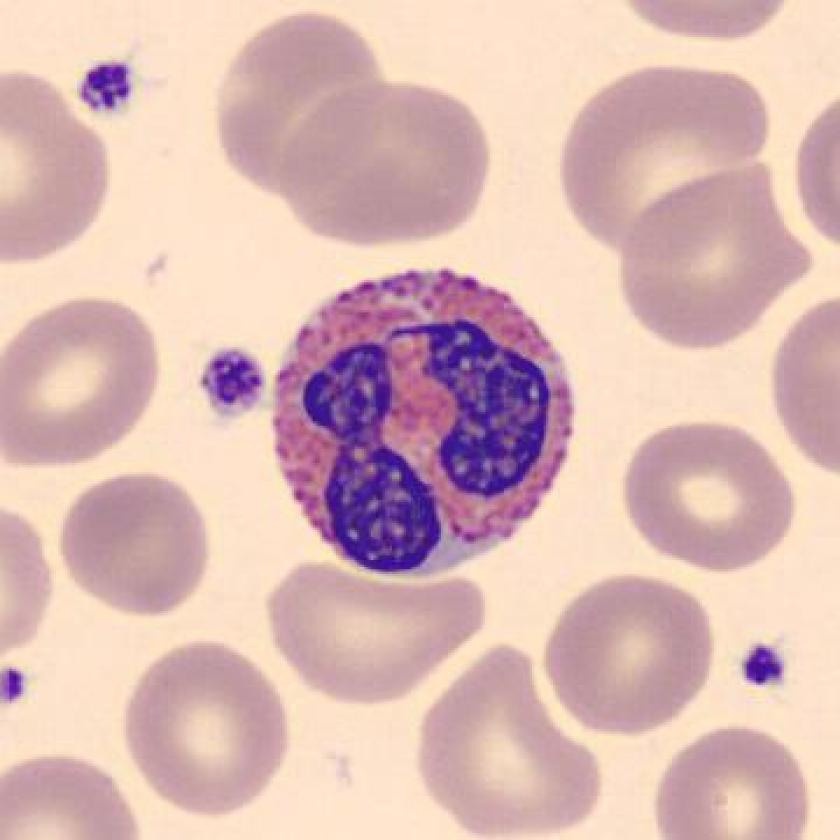eosinophil: (262, 258, 589, 593)
